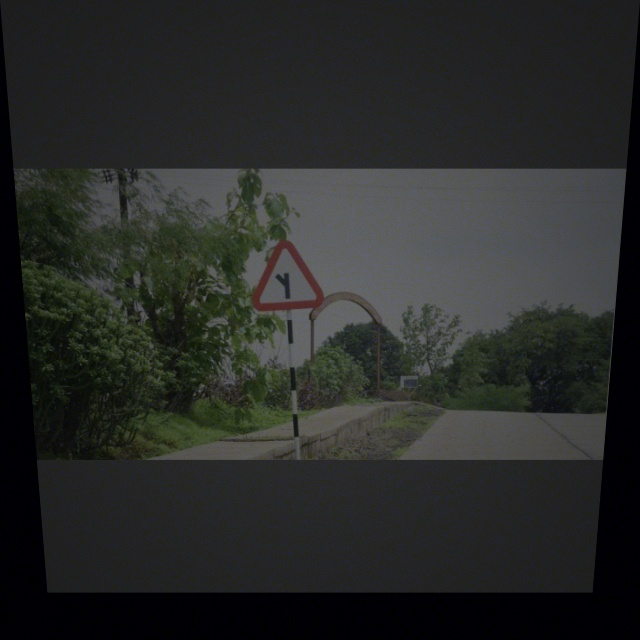Y_Intersection: (251, 229, 323, 313)
